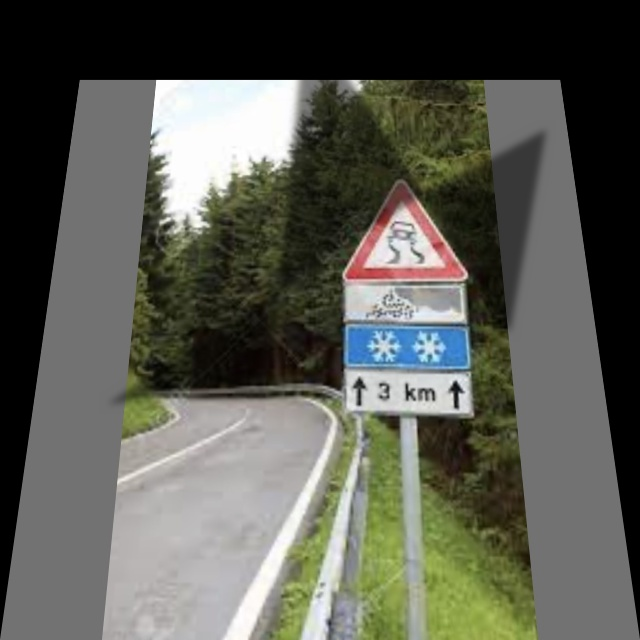Slippery_Road: (346, 179, 468, 280)
